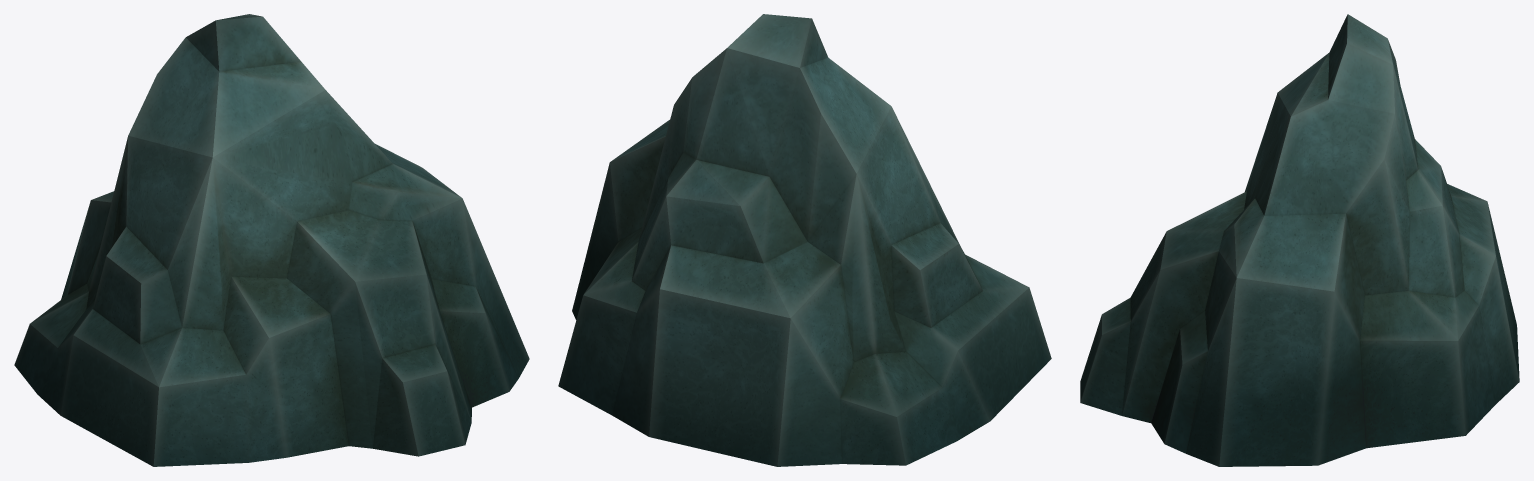
The model's file is rock1.fbx.
The picture shows the model from 3 angles, left to right: view 1: azimuth 30°, elevation 25°; view 2: azimuth 150°, elevation 25°; view 3: azimuth 270°, elevation 25°; orthographic projection. The views are drawn at different scales.
Visible parts, largest first — view 1: MultiMesher009; view 2: MultiMesher009; view 3: MultiMesher009.
Part boxes in pixels (box(x1,y1,x2,y2)): MultiMesher009: box(14, 14, 529, 466); MultiMesher009: box(558, 14, 1051, 466); MultiMesher009: box(1080, 14, 1519, 466).
Bounding box in the file's own units: 86.65 × 70.76 × 83.59.
